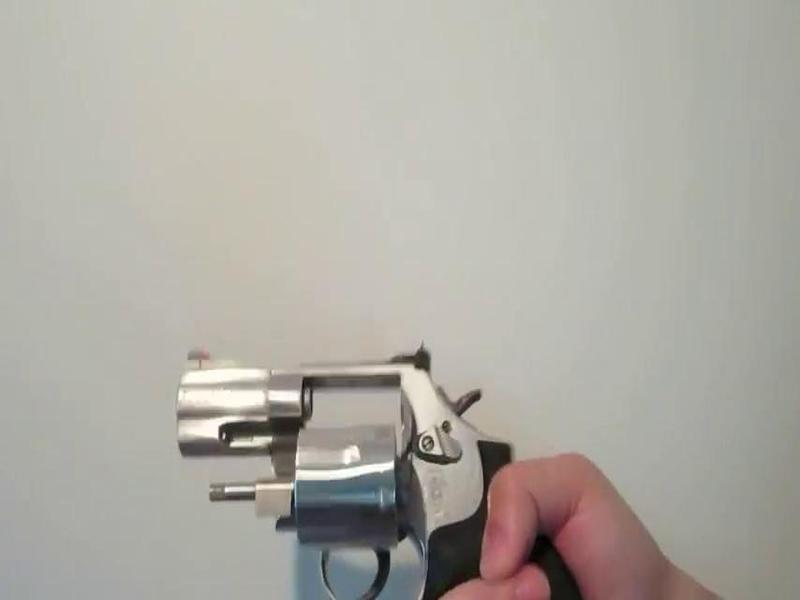Revolver: (167, 296, 583, 600)
